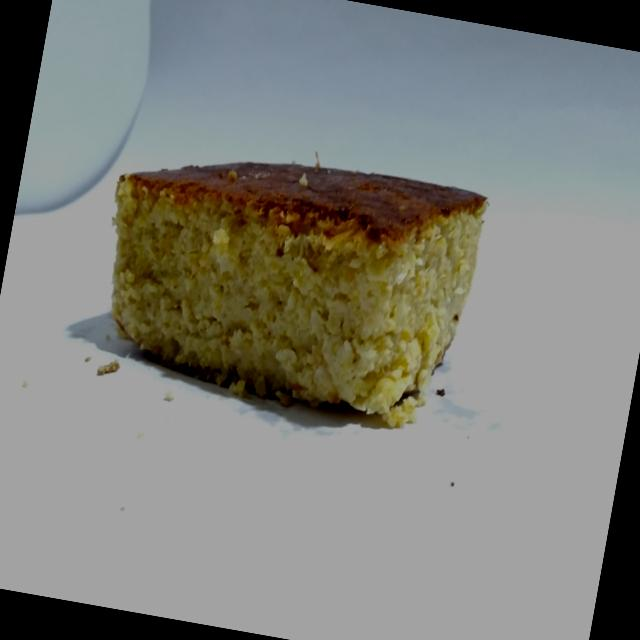Chipa_Guazu: (74, 110, 498, 444)
